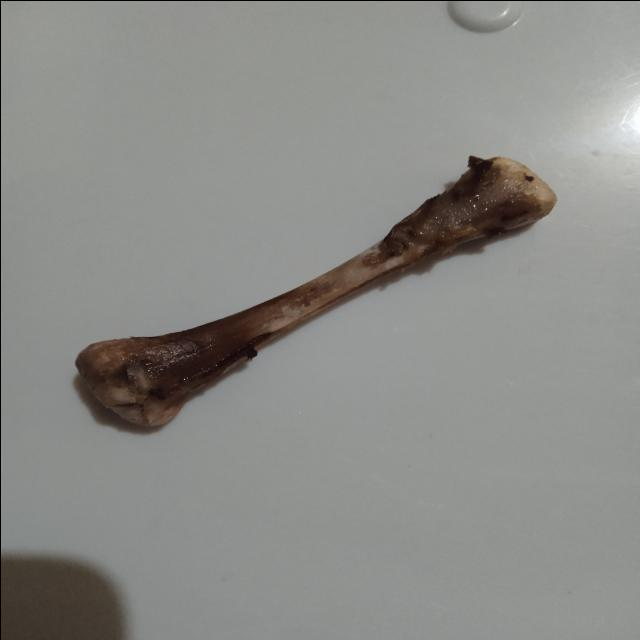bone: (68, 148, 564, 434)
